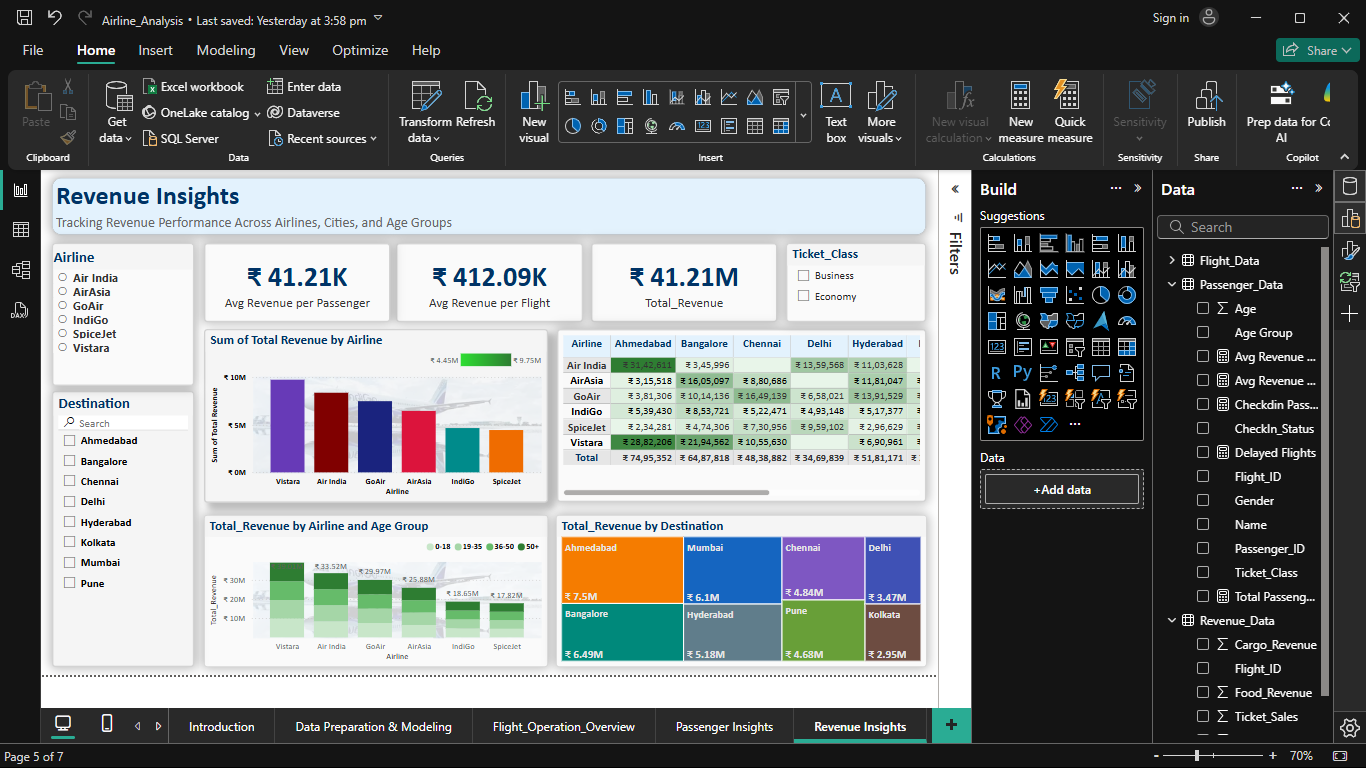

This screenshot's page, from the dashboard's own definition file:
{"tool":"powerbi","page":{"name":"Revenue Insights","canvas":[1280,720],"ordinal":4},"visuals":[{"type":"textbox","title":"Revenue Insights","box":[14.1,9.8,1250.5,84.4],"z":0},{"type":"card","fields":{"Values":["Revenue_Data.Total_Revenue"]},"box":[784.8,103.7,266.4,112.6],"z":1000},{"type":"card","fields":{"Values":["Passenger_Data.Avg Revenue per Flight"]},"box":[506.4,104.1,267.3,112.5],"z":2000},{"type":"card","fields":{"Values":["Passenger_Data.Avg Revenue per Passenger"]},"box":[232.4,103.7,266.4,112.6],"z":3000},{"type":"columnChart","fields":{"Y":["Revenue_Data.Total_Revenue"],"Category":["Flight_Data.Airline"],"Series":["Passenger_Data.Age Group"]},"box":[232.1,492.3,490.9,216.6],"z":4000},{"type":"clusteredColumnChart","fields":{"Y":["Sum(Revenue_Data.Total Revenue)"],"Category":["Flight_Data.Airline"]},"box":[232.1,226.5,490.9,247.6],"z":5000},{"type":"treemap","fields":{"Group":["Flight_Data.Destination"],"Values":["Revenue_Data.Total_Revenue"]},"box":[734.2,492.3,528.9,216.6],"z":6000},{"type":"pivotTable","fields":{"Values":["Revenue_Data.Total_Revenue"],"Rows":["Flight_Data.Airline"],"Columns":["Flight_Data.Destination"]},"box":[736.5,227,527.4,246.7],"z":7000},{"type":"slicer","title":"Destination","fields":{"Values":["Flight_Data.Destination"]},"box":[15.5,315.1,202.5,393.8],"z":10000},{"type":"listSlicer","fields":{"Values":["Flight_Data.Airline"]},"box":[15.7,104.2,202.6,204.1],"z":11000},{"type":"slicer","title":"Ticket_Class","fields":{"Values":["Passenger_Data.Ticket_Class"]},"box":[1063.7,103.7,200.2,112.6],"z":12000}]}

Visuals, with their boxes on the page's 1280x720 design canvas (x1, y1, x2, y2). These are canvas units, not pixel positions in the 1366x768 screenshot, which may show the page scaled, cropped or inside an application window:
"Revenue Insights" textbox: x1=14, y1=10, x2=1265, y2=94
card - Revenue_Data.Total_Revenue: x1=785, y1=104, x2=1051, y2=216
card - Passenger_Data.Avg Revenue per Flight: x1=506, y1=104, x2=774, y2=217
card - Passenger_Data.Avg Revenue per Passenger: x1=232, y1=104, x2=499, y2=216
columnChart - Revenue_Data.Total_Revenue x Flight_Data.Airline: x1=232, y1=492, x2=723, y2=709
clusteredColumnChart - Sum(Revenue_Data.Total Revenue) x Flight_Data.Airline: x1=232, y1=226, x2=723, y2=474
treemap - Flight_Data.Destination x Revenue_Data.Total_Revenue: x1=734, y1=492, x2=1263, y2=709
pivotTable - Revenue_Data.Total_Revenue x Flight_Data.Airline: x1=736, y1=227, x2=1264, y2=474
"Destination" slicer: x1=16, y1=315, x2=218, y2=709
listSlicer - Flight_Data.Airline: x1=16, y1=104, x2=218, y2=308
"Ticket_Class" slicer: x1=1064, y1=104, x2=1264, y2=216
